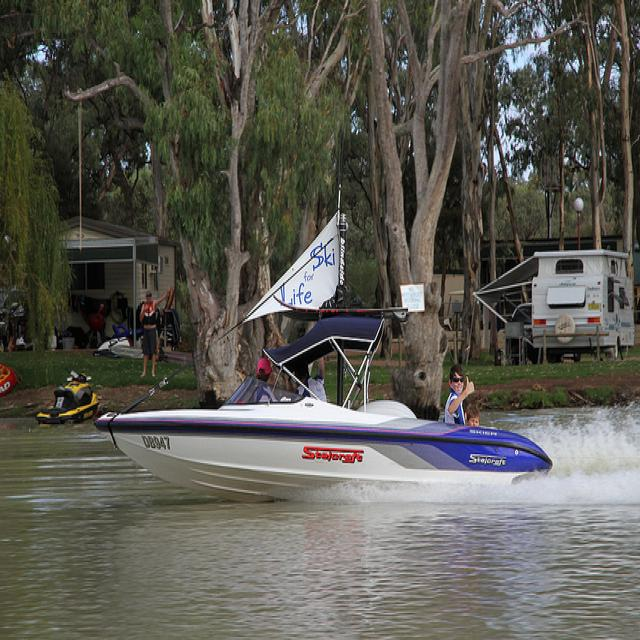Vehicle: (512, 303, 532, 332)
